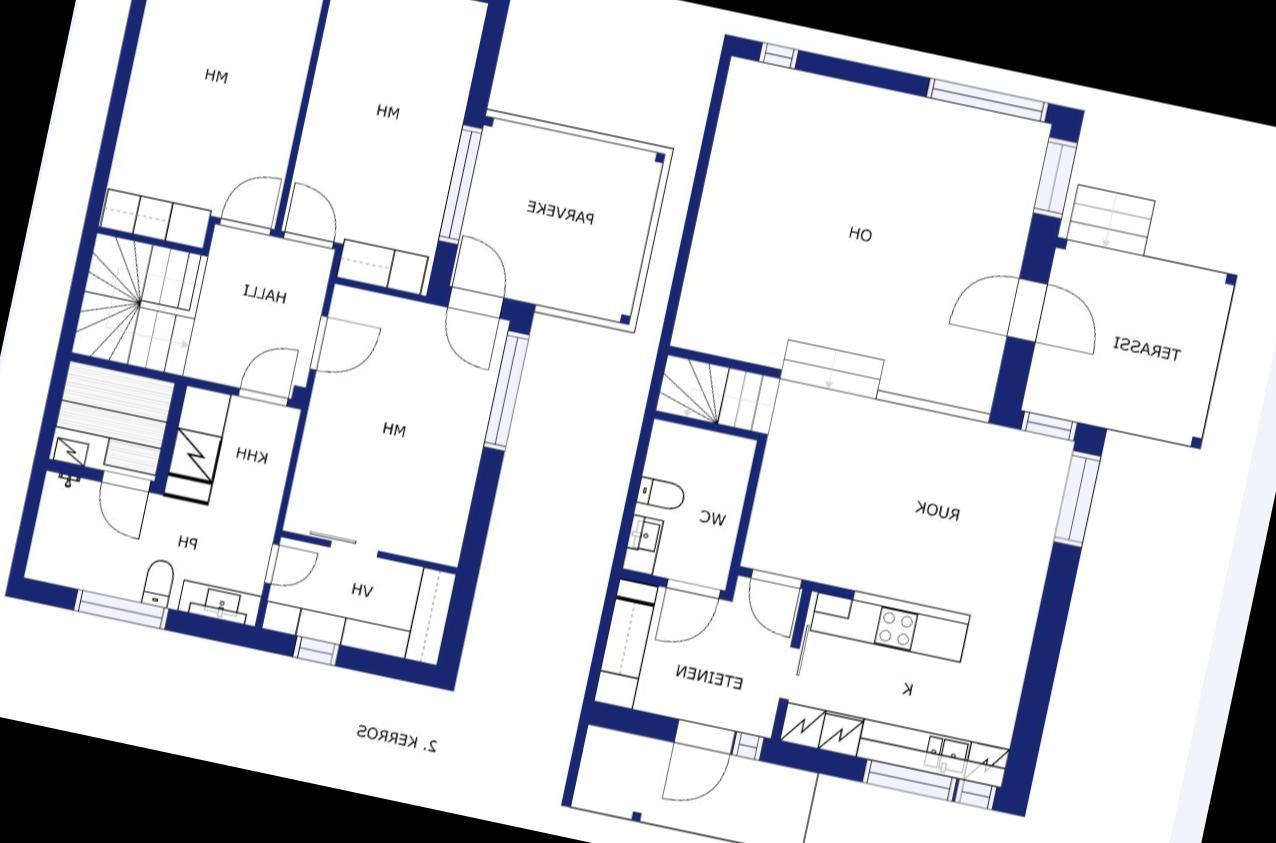door: (936, 258, 1048, 348), (1001, 276, 1111, 364), (654, 712, 740, 817), (429, 284, 506, 376), (446, 229, 518, 318), (306, 312, 386, 384), (736, 564, 810, 640), (84, 467, 154, 547), (655, 576, 724, 650), (218, 162, 284, 236), (283, 177, 349, 249), (238, 338, 303, 403), (260, 538, 324, 594)
window: (918, 70, 1059, 130), (476, 320, 536, 454), (1046, 437, 1108, 559), (432, 116, 487, 250), (1021, 127, 1086, 230), (63, 583, 176, 637), (854, 754, 960, 806), (286, 629, 350, 669), (948, 774, 1006, 813), (750, 36, 806, 73), (724, 724, 770, 760)
